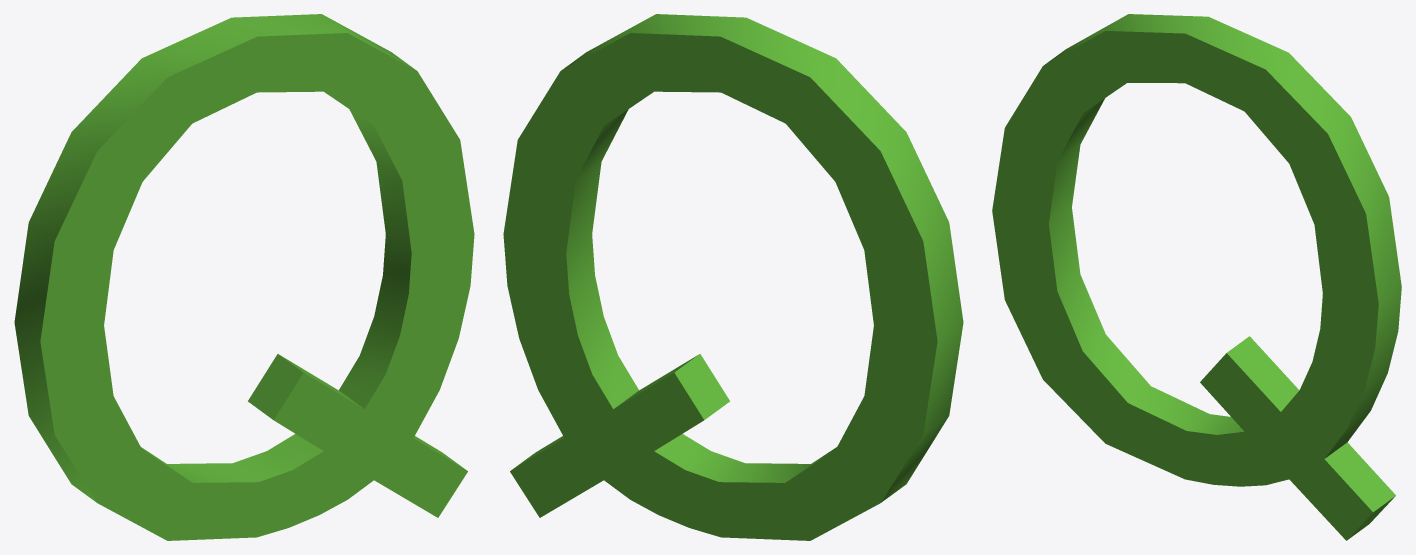
Rendered from letras.obj.
The picture shows the model from 3 angles, left to right: view 1: azimuth 30°, elevation 25°; view 2: azimuth 150°, elevation 25°; view 3: azimuth 330°, elevation 25°; orthographic projection. The views are drawn at different scales.
Visible parts, largest first — view 1: Q; view 2: Q; view 3: Q.
Part boxes in pixels (x1,y1,x2,y2): Q: (14, 14, 474, 540); Q: (503, 14, 963, 540); Q: (992, 14, 1401, 540).
Bounding box in the file's own units: 0.968 × 1.12 × 0.1.
